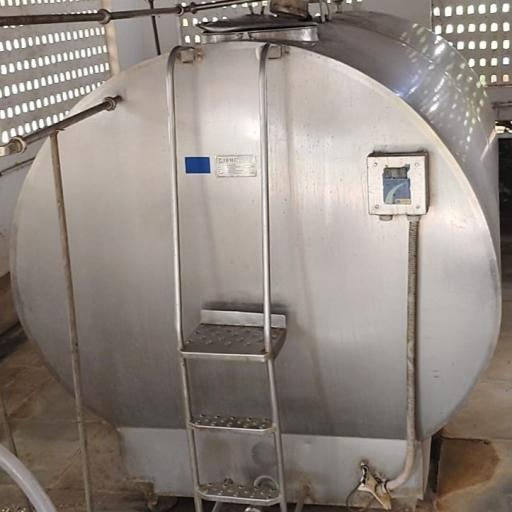silo: (6, 9, 503, 485)
